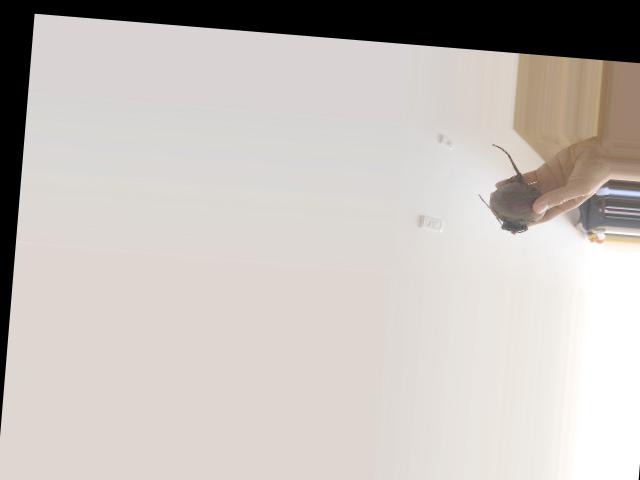beet: (474, 143, 550, 236)
